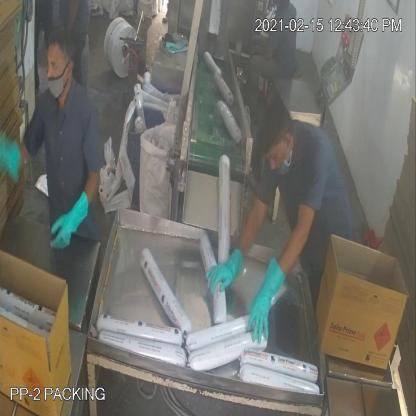glove: (243, 252, 289, 351), (48, 190, 94, 258), (201, 244, 243, 303)
